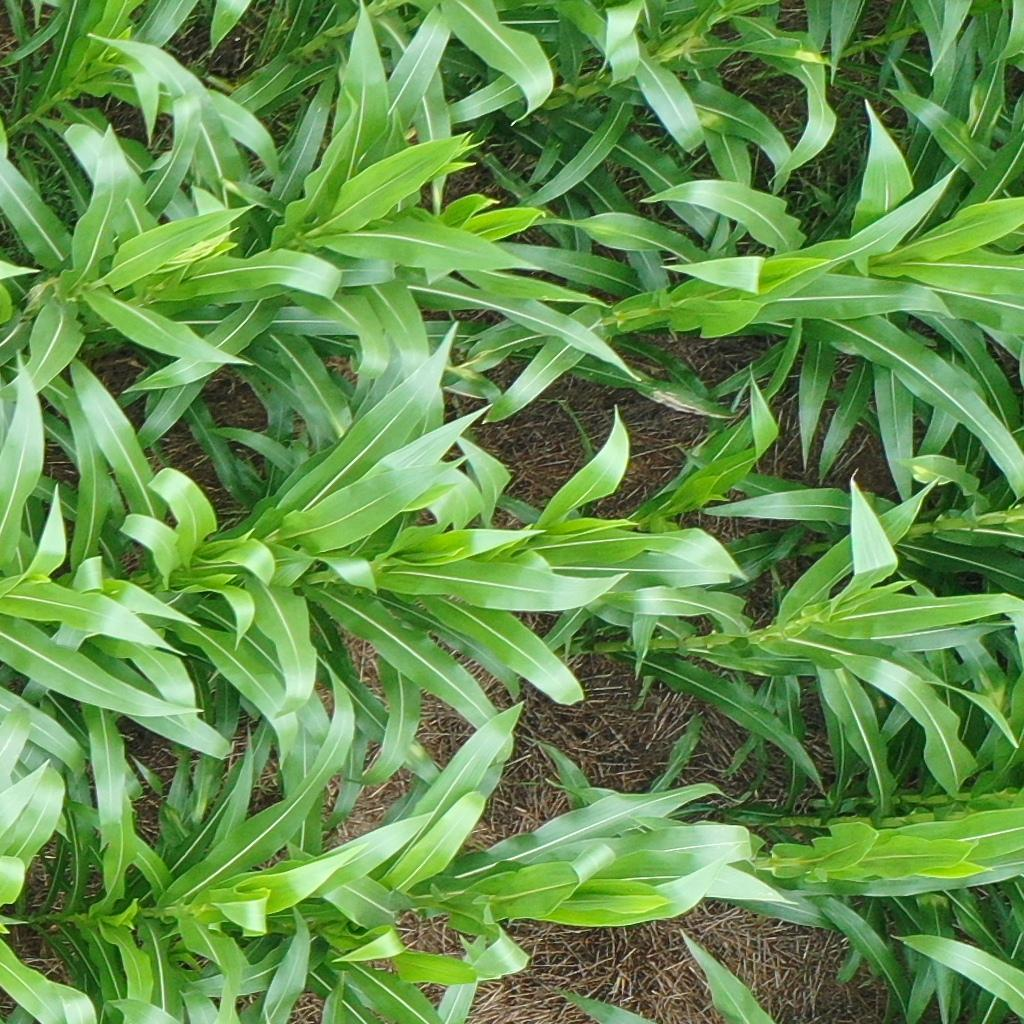Tassel: (147, 231, 239, 275)
